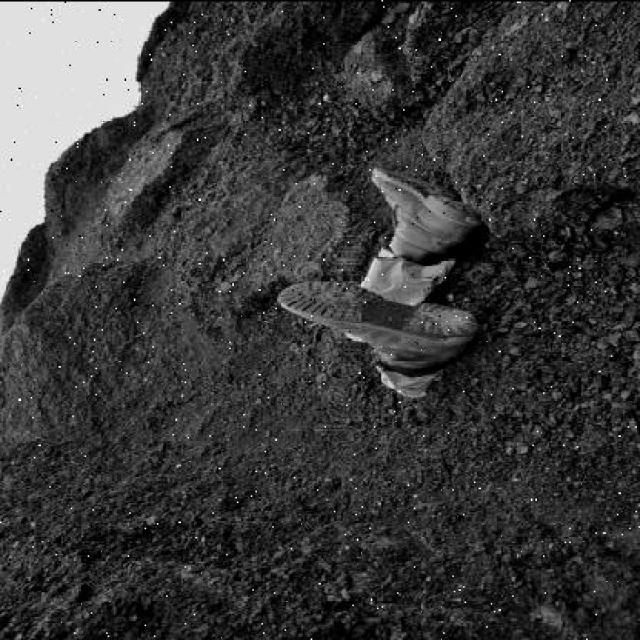shoes: (285, 288, 483, 374), (358, 170, 476, 252)
